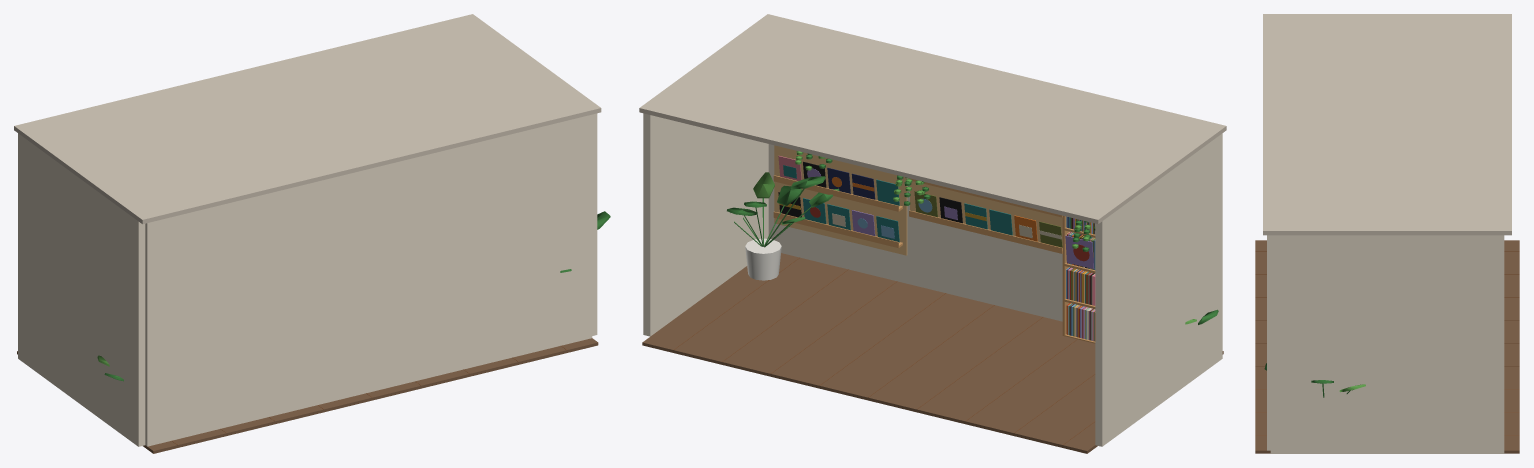
File: RecordShop_Back.obj
The picture shows the model from 3 angles, left to right: view 1: azimuth 30°, elevation 25°; view 2: azimuth 150°, elevation 25°; view 3: azimuth 270°, elevation 25°; orthographic projection. The views are drawn at different scales.
Parts seen in each view (by area): view 1: RecordShop_Back; view 2: RecordShop_Back; view 3: RecordShop_Back.
Boxes of the visible parts, x1,y1,x2,y2 form: RecordShop_Back: (14,14,610,453); RecordShop_Back: (639,14,1226,453); RecordShop_Back: (1255,14,1519,453).
Bounding box in the file's own units: 7.34 × 3.2 × 3.4.
